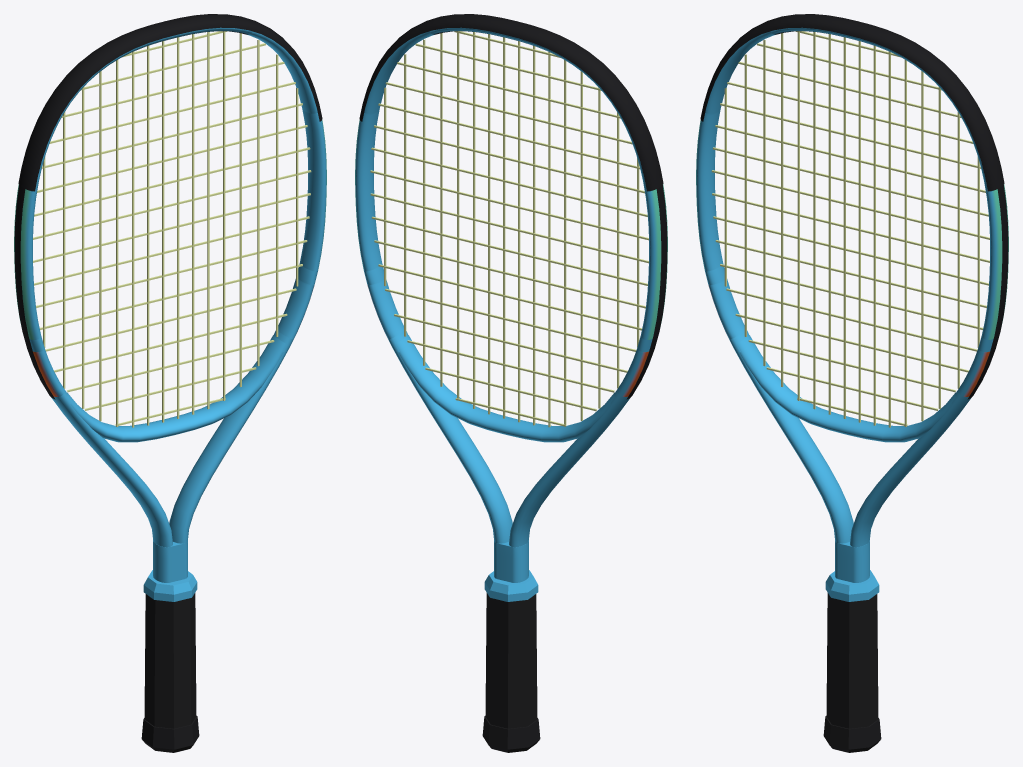
File: yonex-junior-23.glb
3 views of the same model, side by side, from view 1: azimuth 30°, elevation 25°; view 2: azimuth 150°, elevation 25°; view 3: azimuth 330°, elevation 25° (orthographic).
Visible parts, largest first — view 1: frame, strings_mains, strings_crosses, grip, bumper, butt_cap, grommets, collar; view 2: frame, strings_mains, strings_crosses, grip, bumper, butt_cap, grommets, collar; view 3: frame, strings_mains, strings_crosses, grip, bumper, butt_cap, grommets, collar.
Part boxes in pixels (x1=…): frame: x1=14, y1=27, x2=326, y2=582; strings_mains: x1=43, y1=31, x2=298, y2=427; strings_crosses: x1=33, y1=31, x2=311, y2=426; grip: x1=144, y1=593, x2=196, y2=728; bumper: x1=18, y1=14, x2=322, y2=191; butt_cap: x1=141, y1=715, x2=199, y2=752; grommets: x1=14, y1=185, x2=55, y2=399; collar: x1=143, y1=570, x2=197, y2=601; frame: x1=355, y1=27, x2=667, y2=582; strings_mains: x1=384, y1=32, x2=639, y2=427; strings_crosses: x1=370, y1=31, x2=648, y2=426; grip: x1=485, y1=593, x2=537, y2=728; bumper: x1=359, y1=14, x2=663, y2=191; butt_cap: x1=482, y1=715, x2=540, y2=752; grommets: x1=626, y1=185, x2=667, y2=399; collar: x1=484, y1=570, x2=538, y2=601; frame: x1=696, y1=27, x2=1008, y2=582; strings_mains: x1=724, y1=31, x2=979, y2=427; strings_crosses: x1=711, y1=31, x2=989, y2=426; grip: x1=826, y1=593, x2=878, y2=728; bumper: x1=700, y1=14, x2=1004, y2=191; butt_cap: x1=823, y1=715, x2=881, y2=752; grommets: x1=967, y1=185, x2=1008, y2=399; collar: x1=825, y1=570, x2=879, y2=601.
Size of the model in its own units: 0.2612 by 0.5845 by 0.0396.
